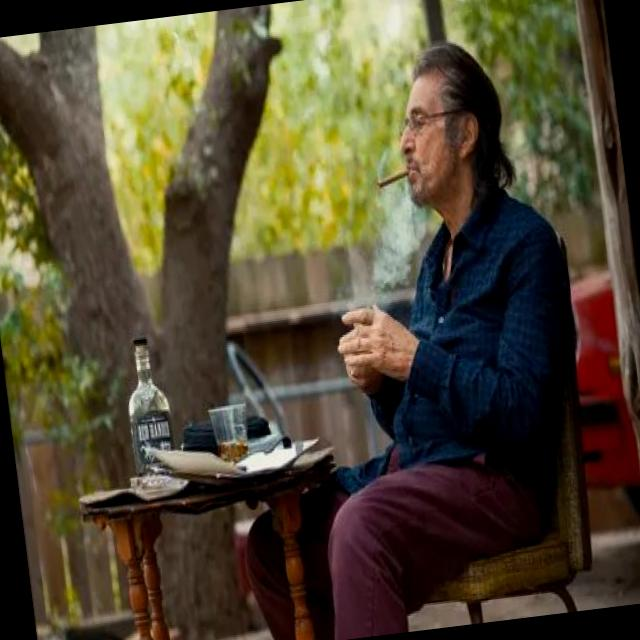cigarette: (374, 158, 416, 194)
